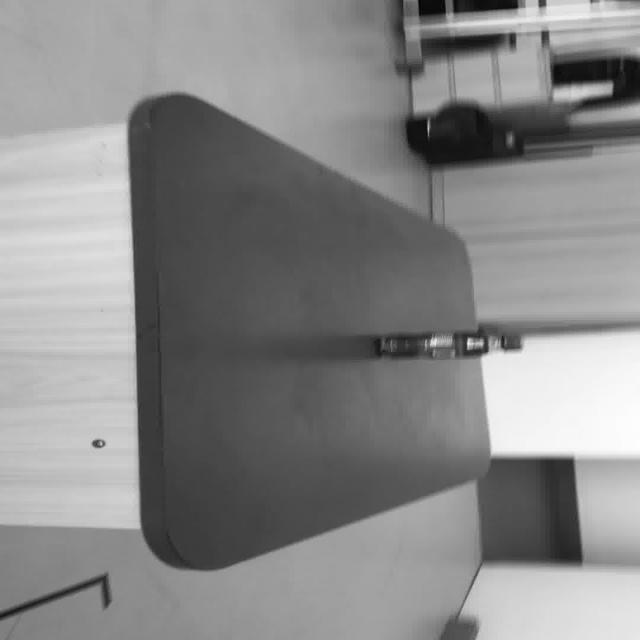guarana: (126, 91, 508, 570), (373, 327, 522, 359)
